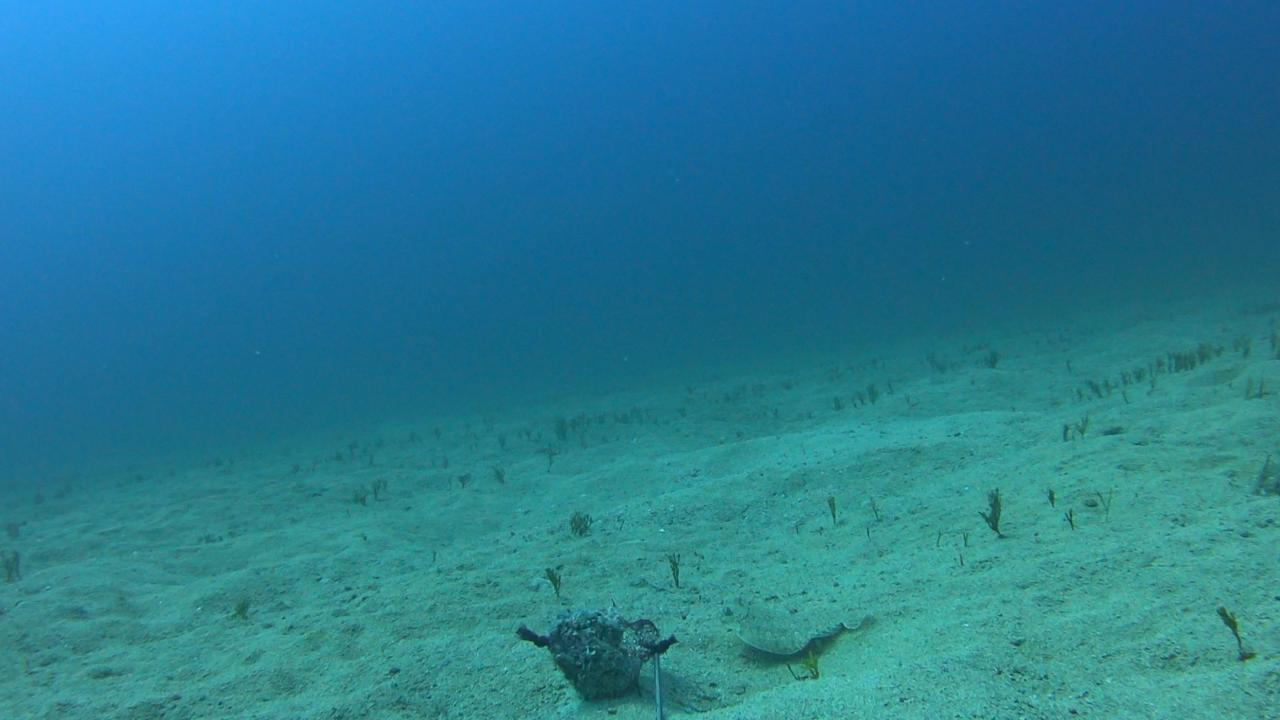bothus: (714, 590, 885, 659)
